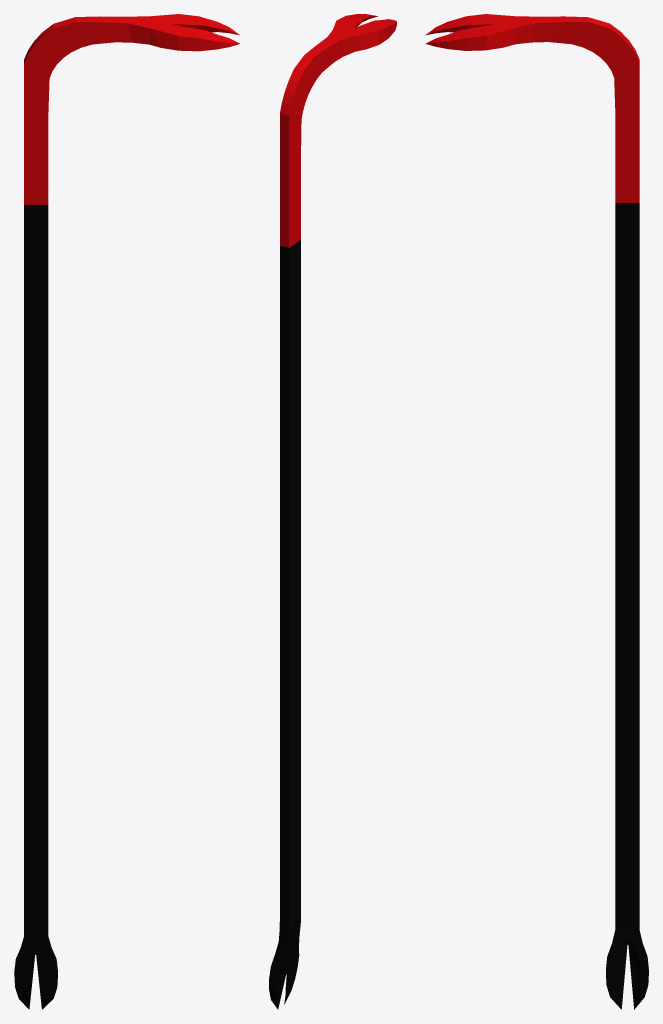
The model's file is bar.fbx.
3 views of the same model, side by side, from view 1: azimuth 90°, elevation 25°; view 2: azimuth 150°, elevation 25°; view 3: azimuth 270°, elevation 25° (orthographic). The views are drawn at different scales.
Visible parts, largest first — view 1: Cube; view 2: Cube; view 3: Cube.
Boxes of the visible parts, left/top/right/bottom form: Cube: left=14, top=14, right=239, bottom=1009; Cube: left=269, top=14, right=396, bottom=1009; Cube: left=425, top=14, right=648, bottom=1009.
Bounding box in the file's own units: 4.27 × 89.69 × 18.46.
